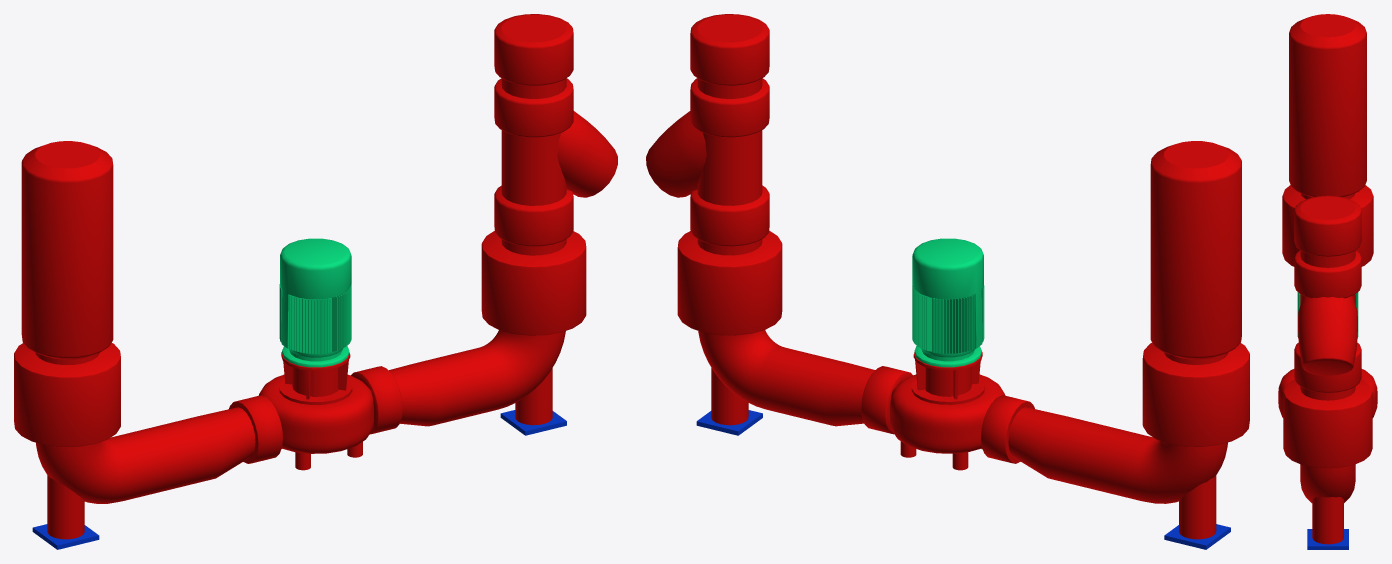
The model's file is Chiller Water Pump_re.fbx.
3 views of the same model, side by side, from view 1: azimuth 30°, elevation 25°; view 2: azimuth 150°, elevation 25°; view 3: azimuth 270°, elevation 25° (orthographic). The views are drawn at different scales.
Visible parts, largest first — view 1: Chiller Water Pump_#1; view 2: Chiller Water Pump_#1; view 3: Chiller Water Pump_#1.
Boxes of the visible parts, x1,y1,x2,y2 form: Chiller Water Pump_#1: (14, 14, 617, 549); Chiller Water Pump_#1: (646, 14, 1249, 549); Chiller Water Pump_#1: (1278, 14, 1377, 549).
Bounding box in the file's own units: 4217 × 2678 × 721.
